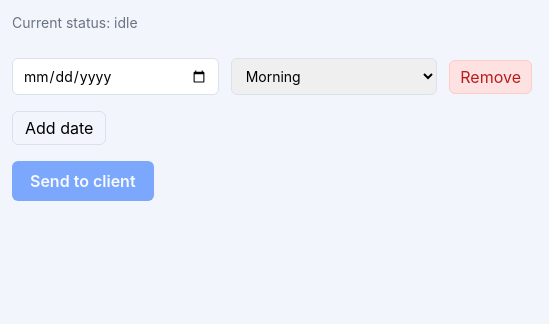
Test: BookingForm › caps at 3 rows and disables "Add date" when 3 exist
The width and height of the screenshot is (549, 324).
What coordinates should you click on to do the following:
click the button "Add date"
I would click on:
 (59, 128)
Its box is [12,111,106,145].
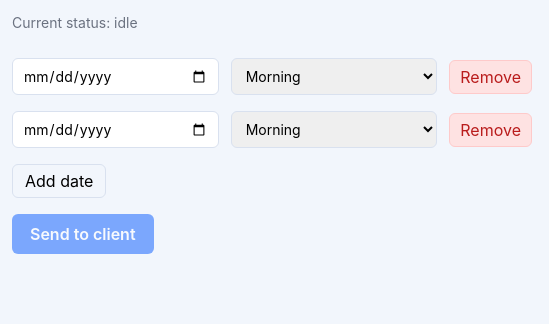
What coordinates should you click on to do the following:
click the button "Add date"
I would click on:
 (59, 181)
Its box is [12,164,106,198].
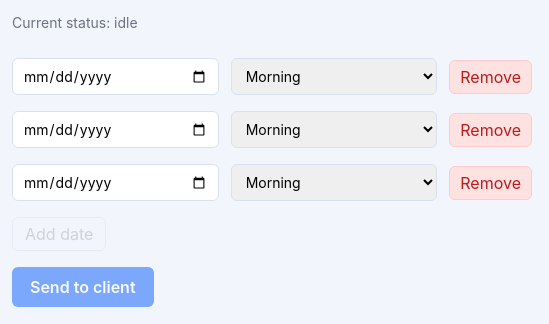
Check: the number of date fields named "date" is 3, box [12,58,219,95]; [12,111,219,148]; [12,164,219,201]
Check: the button "Add date" is disabled, box [12,217,106,251]
